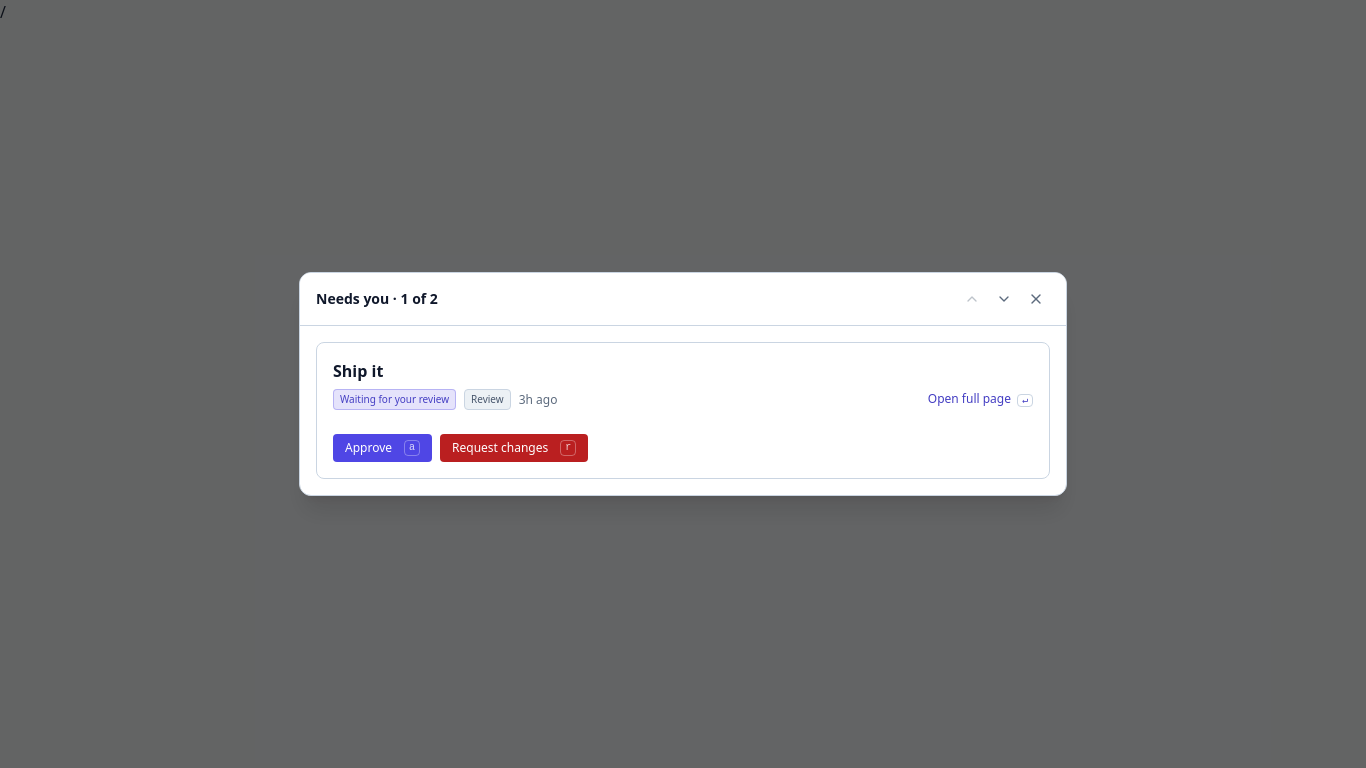
ReviewPopup › moves with j/k and arrows, clamped, and with the buttons
Type keys "k"
Expected: the heading "Ship it" is shown, [333,360,383,382]
Type keys "j"
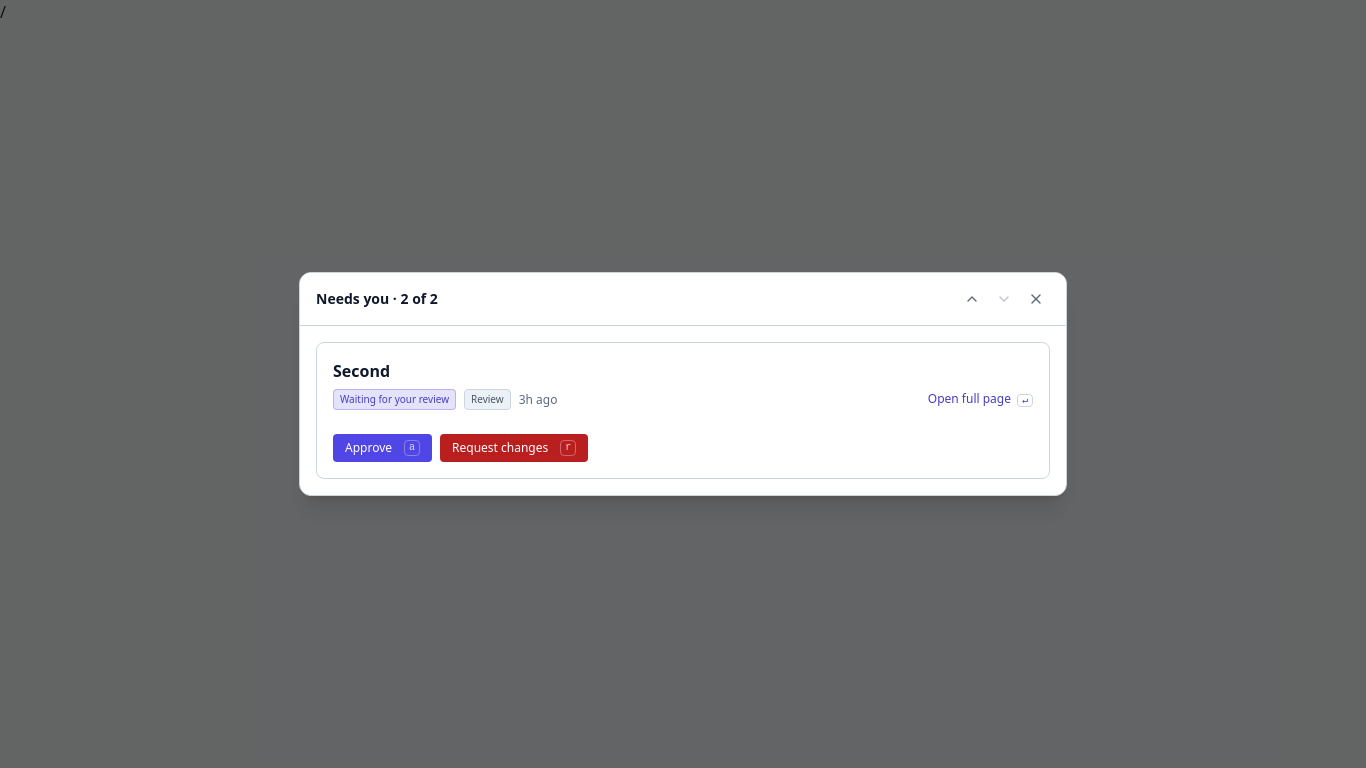
Result: the heading "Second" is shown at [333,360,390,382]
Result: the heading "Needs you · 2 of 2" is shown at [316,289,438,309]
Press Arrowdown
Result: the heading "Second" is shown at [333,360,390,382]
Press Arrowup
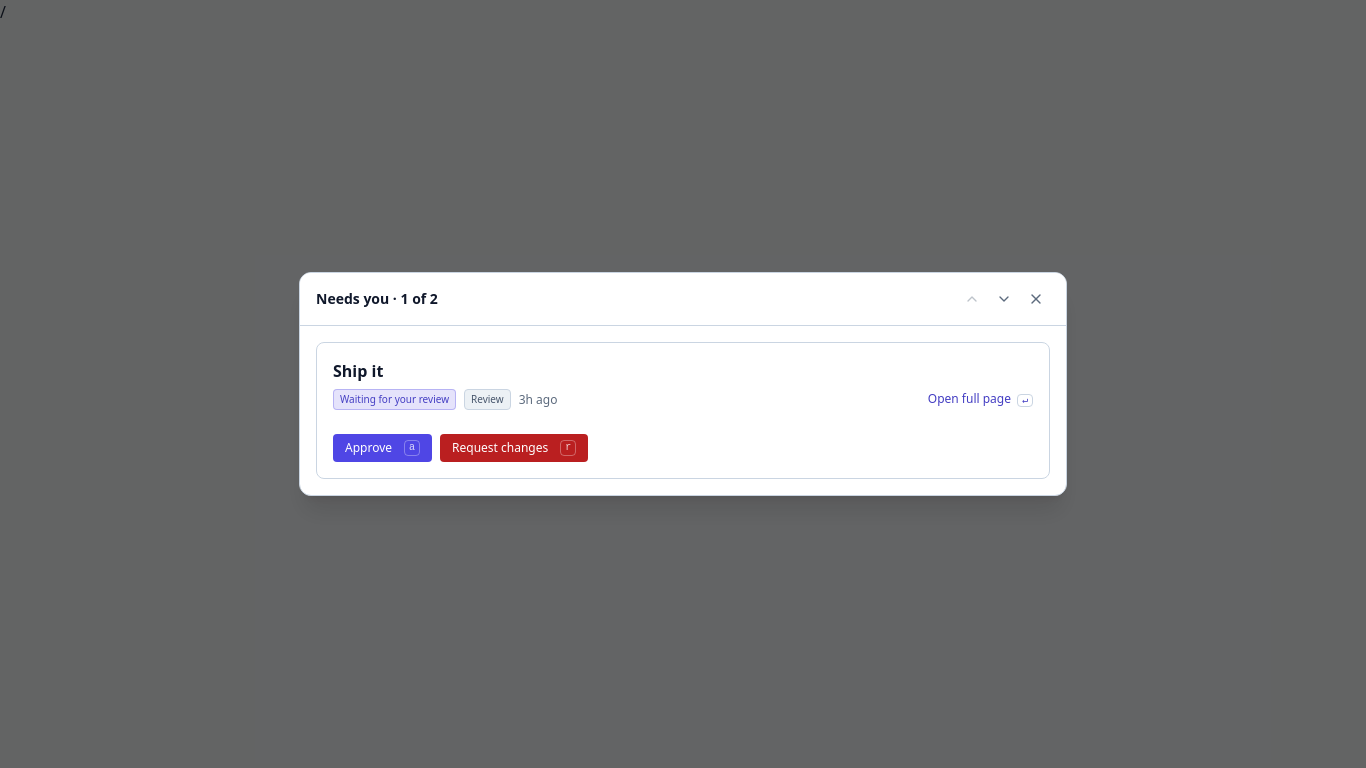
Result: the heading "Ship it" is shown at [333,360,383,382]
Click the button named "Next item". click: (1004, 299)
box: [990,285,1018,313]
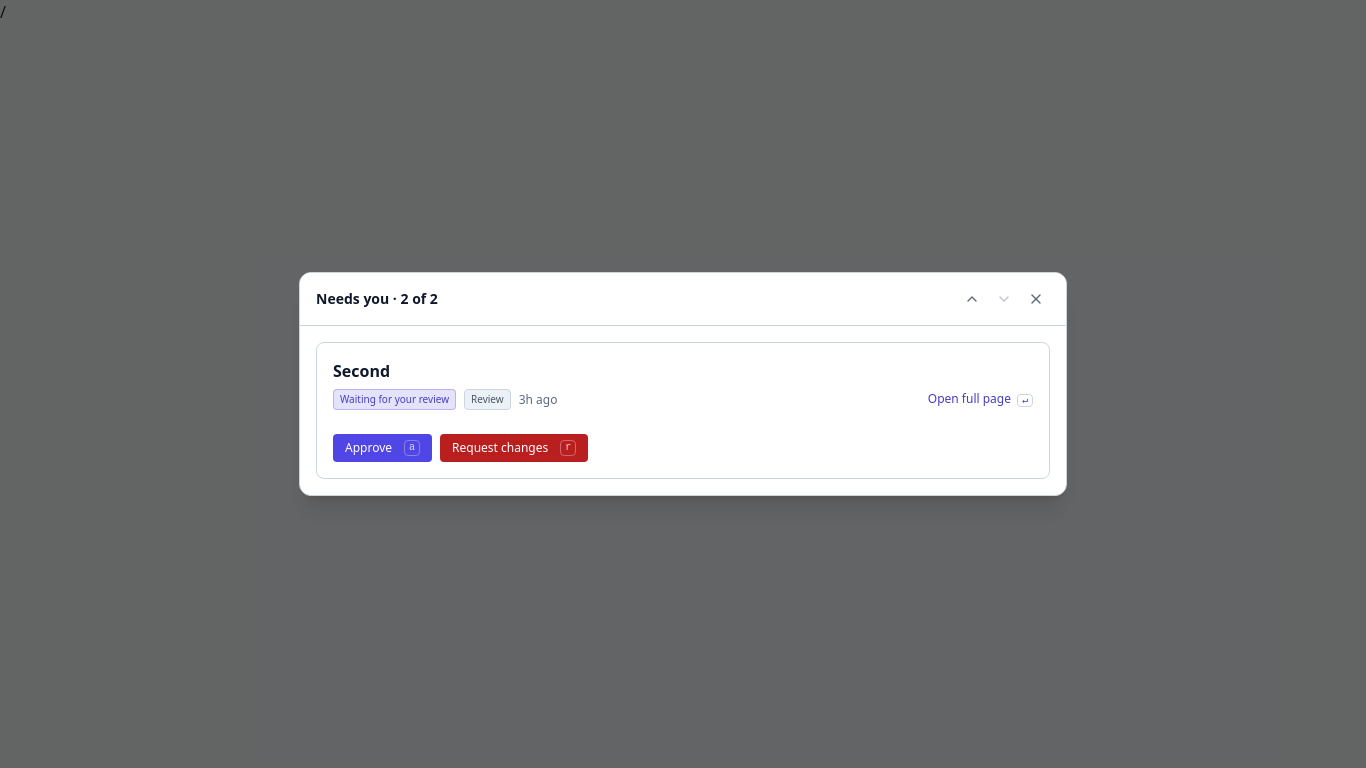
Result: the heading "Second" is shown at [333,360,390,382]
